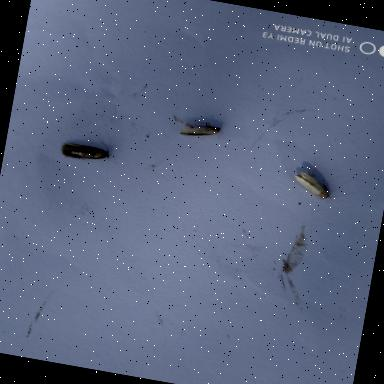pbw: (51, 127, 118, 172), (285, 162, 350, 206), (170, 110, 234, 150)
